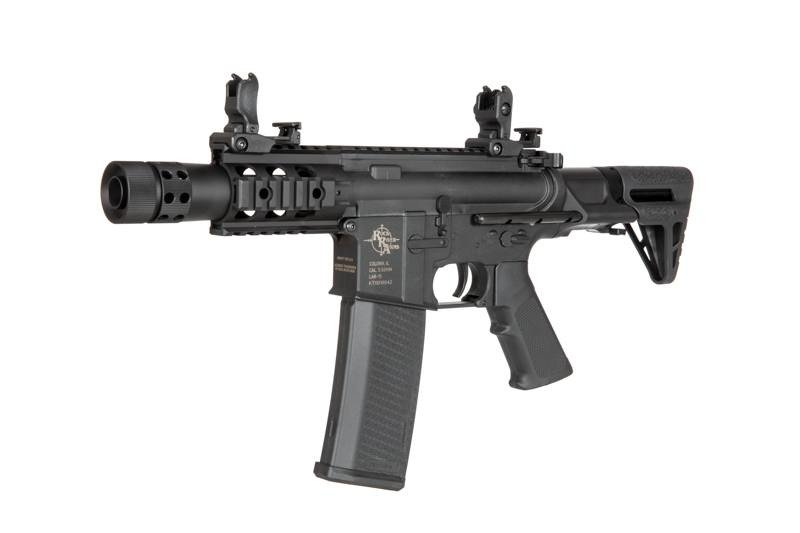m4_carbine: (322, 135, 572, 493)
